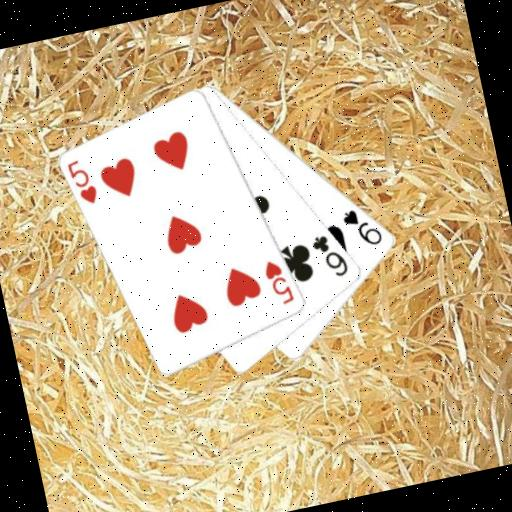5H: (63, 153, 101, 209), (260, 254, 297, 309)
6C: (307, 228, 352, 283)
9S: (338, 201, 386, 252)
